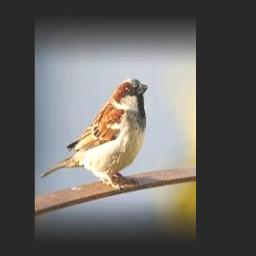Sparrow: (41, 78, 148, 189)
